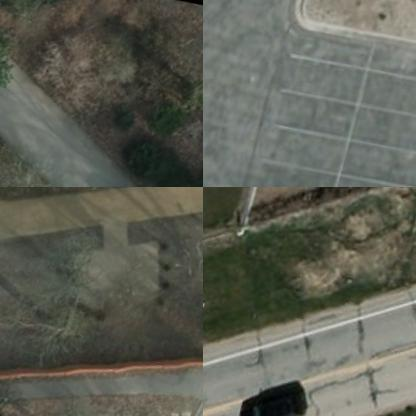car: (233, 375, 324, 415)
